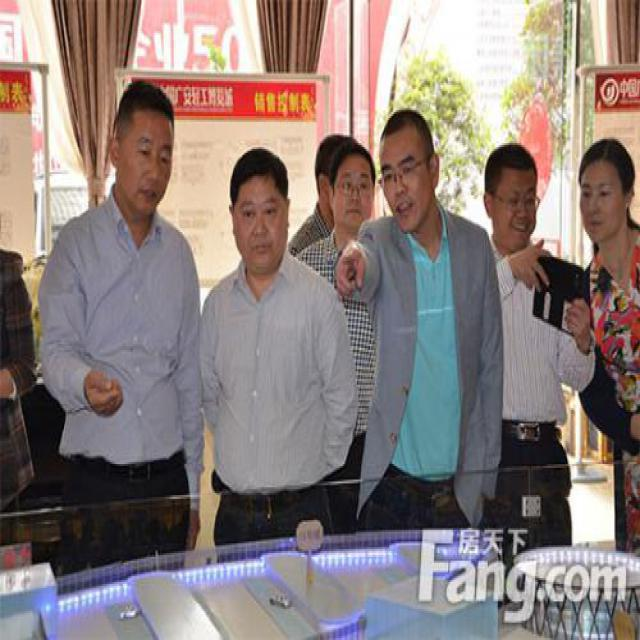head: (106, 67, 180, 218), (220, 142, 290, 280), (372, 104, 439, 229), (478, 133, 544, 253), (570, 133, 636, 249), (318, 132, 375, 235)
person: (34, 64, 218, 551), (350, 98, 505, 543), (196, 144, 364, 543), (469, 137, 590, 551), (560, 134, 640, 563)
